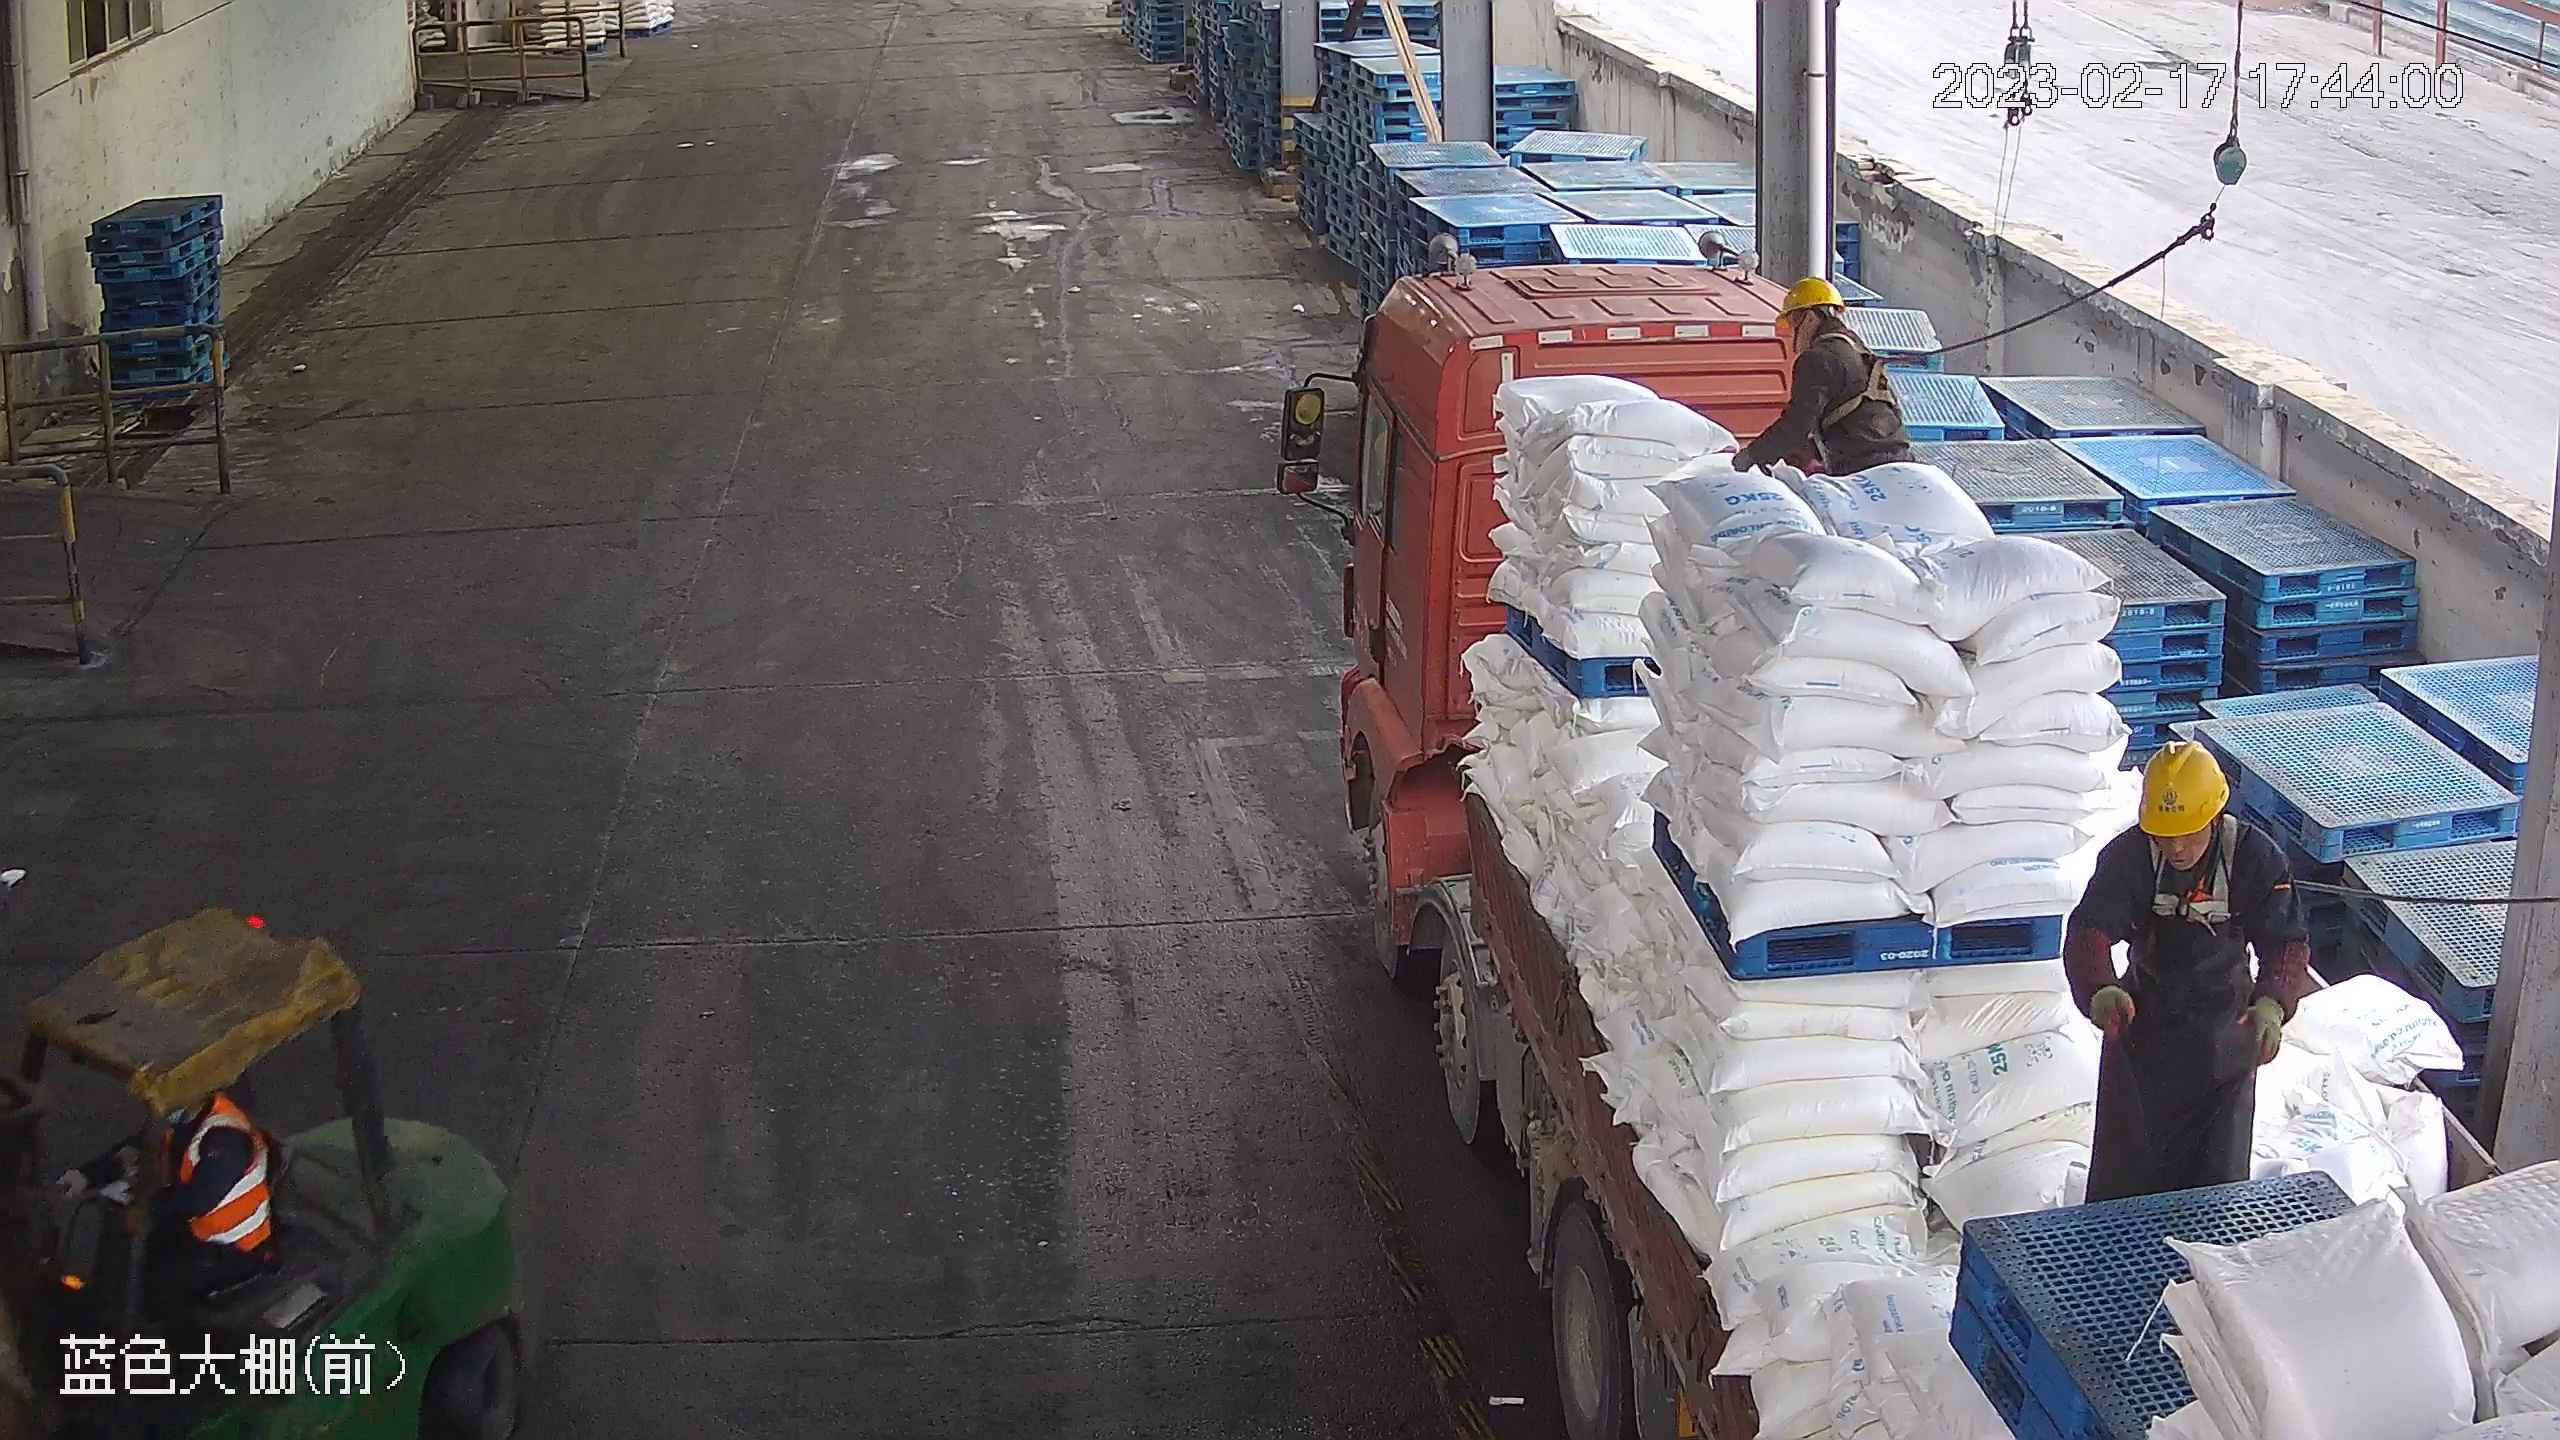belt: (2122, 820, 2256, 933), (1803, 325, 1908, 435)
head: (2076, 740, 2303, 940), (1739, 276, 1896, 432)
helmet: (2134, 745, 2235, 837), (1773, 278, 1849, 325)
people: (2059, 739, 2310, 1215), (58, 1091, 292, 1405)
truck: (1278, 256, 2560, 1440)
